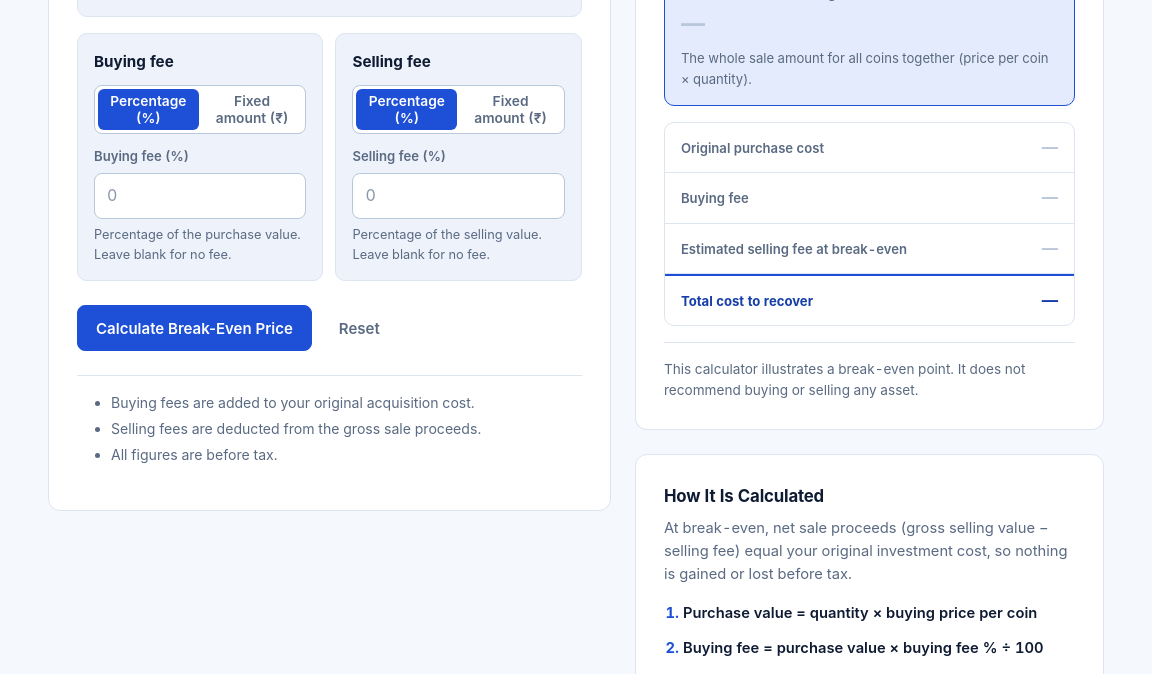
Test: validation › shows an error beside every empty required field and does not calculate
(page scrolled)
Click the button "Calculate Break-Even Price" at (194, 328), box x1=77 y1=305 x2=312 y2=351
(page scrolled)
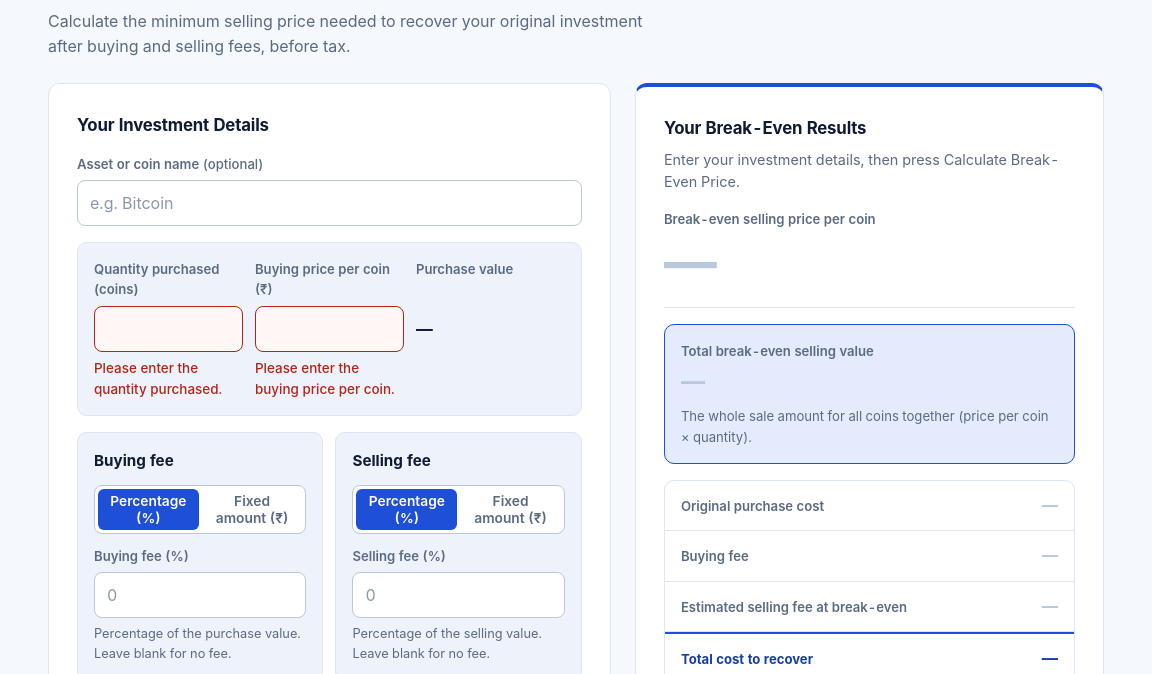
Result: the text "Please enter the quantity purchased." is shown at x1=94 y1=358 x2=243 y2=400
Result: the text "Please enter the buying price per coin." is shown at x1=255 y1=358 x2=404 y2=400
